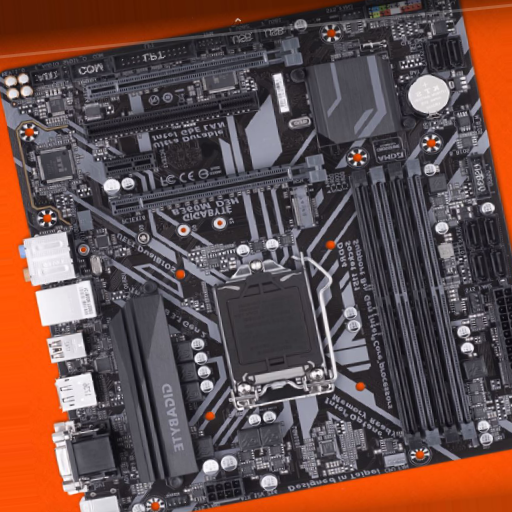CPU: (192, 231, 337, 409)
GPU: (80, 37, 302, 101), (110, 153, 327, 218), (86, 91, 259, 141)
MOTHERBOARD: (2, 5, 511, 502)
RAM: (348, 158, 475, 449)
SSD: (290, 184, 317, 231)
